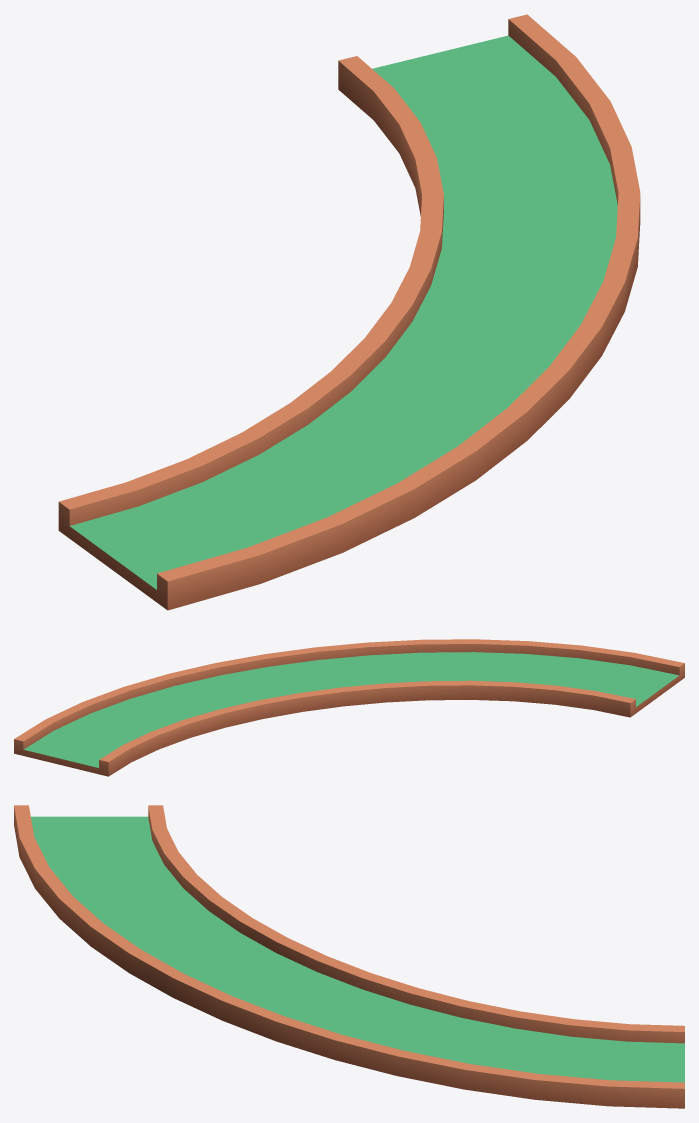
Rendered from spline-default-corner-large.glb.
3 renders of one model, top to bottom at view 1: azimuth 30°, elevation 25°; view 2: azimuth 150°, elevation 25°; view 3: azimuth 270°, elevation 25°, orthographic. The views are drawn at different scales.
Parts seen in each view (by area): view 1: spline-default-corner-large; view 2: spline-default-corner-large; view 3: spline-default-corner-large.
Boxes of the visible parts, x1,y1,x2,y2 form: spline-default-corner-large: [58, 14, 640, 610]; spline-default-corner-large: [14, 639, 684, 776]; spline-default-corner-large: [14, 805, 684, 1108].
Bounding box in the file's own units: 4.5 × 0.1467 × 4.5.
Materials: 1 (1 with a texture image).
